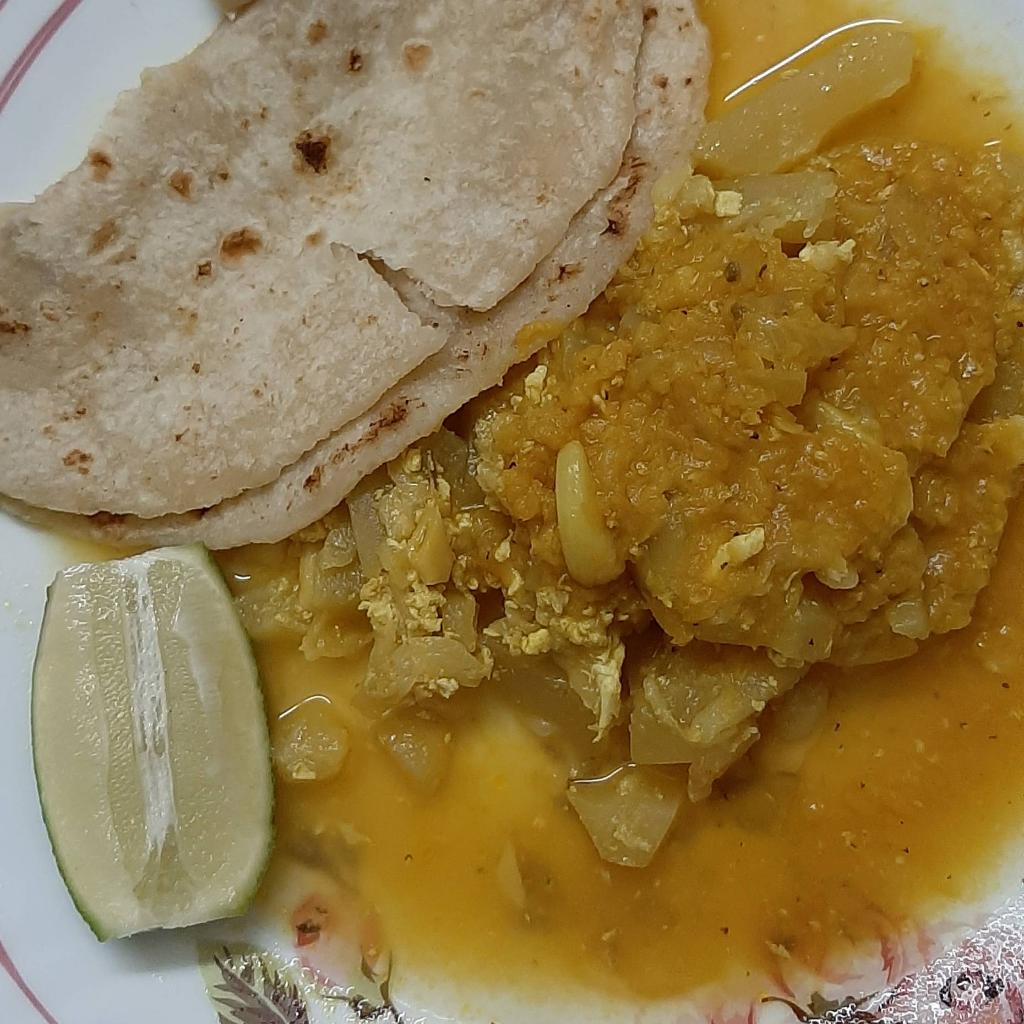lau: (235, 18, 1023, 866)
lemon: (28, 546, 274, 938)
ruti: (0, 1, 712, 540)
